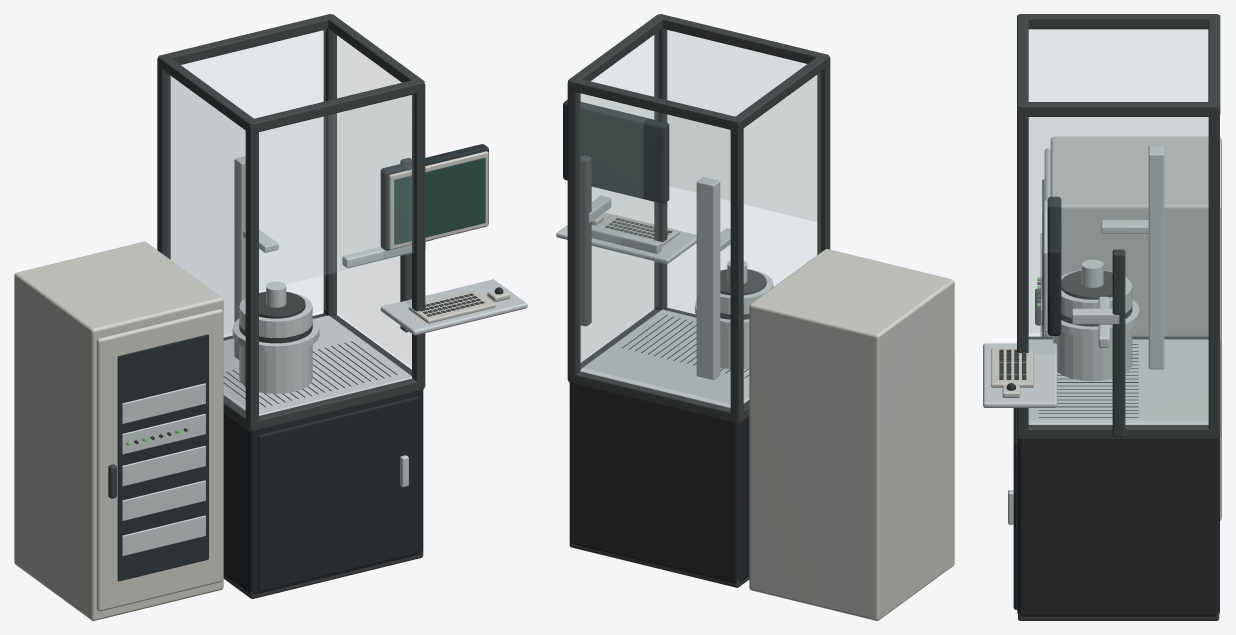
File: evg810.glb
3 renders of one model, left to right at view 1: azimuth 30°, elevation 25°; view 2: azimuth 150°, elevation 25°; view 3: azimuth 270°, elevation 25°, orthographic. The views are drawn at different scales.
Visible parts, largest first — view 1: Rack_accessory, Inspection_back, Front_cabinet_door, Open_front_viewport, Inspection_side_353, Inspection_side_-353, Rack_door_frame, Rack_dark_panel, Lower_chamber_cabinet, Equipment_deck, Monitor_screen, Frame_upright_-354-326 (+24 smaller); view 2: Rack_accessory, Inspection_back, Lower_chamber_cabinet, Open_front_viewport, Inspection_side_353, Inspection_side_-353, Monitor_housing, Equipment_deck, Lift_column, Frame_upright_-354326, Frame_upright_354326, Frame_upright_-354-326 (+14 smaller); view 3: Inspection_side_353, Inspection_side_-353, Lower_chamber_cabinet, Rack_accessory, Equipment_deck, Lift_column, Frame_upright_354326, Frame_upright_354-326, Console_shelf, Frame_side_3541918, Frame_side_-3541918, Frame_side_354706 (+18 smaller).
Part boxes in pixels (box(x1,y1,x2,y2)): Rack_accessory: box(14, 241, 223, 620); Inspection_back: box(171, 30, 325, 334); Front_cabinet_door: box(257, 396, 419, 591); Open_front_viewport: box(259, 95, 413, 290); Inspection_side_353: box(333, 33, 411, 367); Inspection_side_-353: box(167, 74, 244, 407); Rack_door_frame: box(96, 309, 222, 611); Rack_dark_panel: box(117, 334, 208, 581); Lower_chamber_cabinet: box(223, 390, 423, 594); Equipment_deck: box(223, 315, 412, 415); Monitor_screen: box(394, 157, 485, 244); Frame_upright_-354-326: box(245, 125, 258, 429); Rack_accessory: box(749, 249, 954, 620); Inspection_back: box(579, 93, 729, 403); Lower_chamber_cabinet: box(569, 383, 749, 583); Open_front_viewport: box(666, 30, 816, 221); Inspection_side_353: box(581, 33, 657, 360); Inspection_side_-353: box(744, 73, 820, 400); Monitor_housing: box(563, 100, 669, 203); Equipment_deck: box(580, 309, 749, 408); Lift_column: box(696, 177, 720, 379); Frame_upright_-354326: box(730, 123, 743, 421); Frame_upright_354326: box(567, 82, 580, 379); Frame_upright_-354-326: box(817, 58, 830, 254); Inspection_side_353: box(1029, 117, 1207, 419); Inspection_side_-353: box(1029, 30, 1207, 332); Lower_chamber_cabinet: box(1017, 438, 1219, 616); Rack_accessory: box(1050, 136, 1221, 520); Equipment_deck: box(1028, 339, 1208, 424); Lift_column: box(1148, 145, 1164, 369); Frame_upright_354326: box(1208, 107, 1219, 436); Frame_upright_354-326: box(1017, 107, 1028, 436); Console_shelf: box(983, 343, 1057, 407); Frame_side_3541918: box(1018, 102, 1218, 116); Frame_side_-3541918: box(1019, 14, 1217, 29); Frame_side_354706: box(1018, 425, 1218, 439).
Size of the model in its own units: 1.72 by 1.94 by 0.8125.
